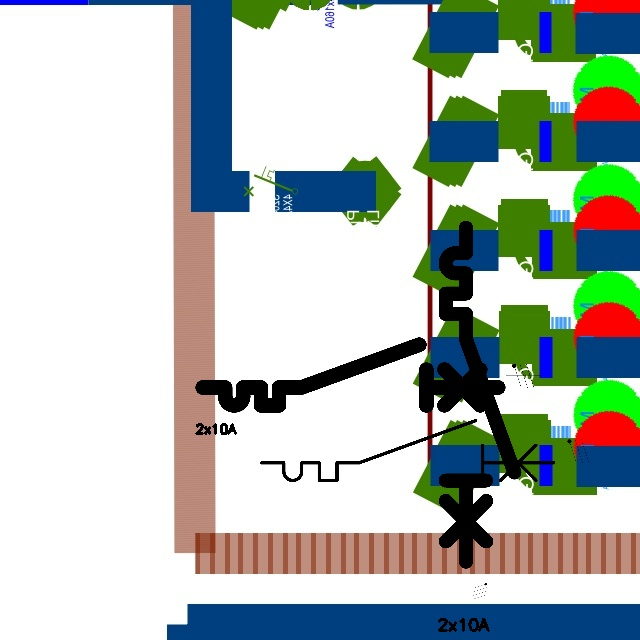interruptor_termomagnetico: (437, 219, 523, 570), (195, 337, 506, 413), (254, 413, 561, 488)
